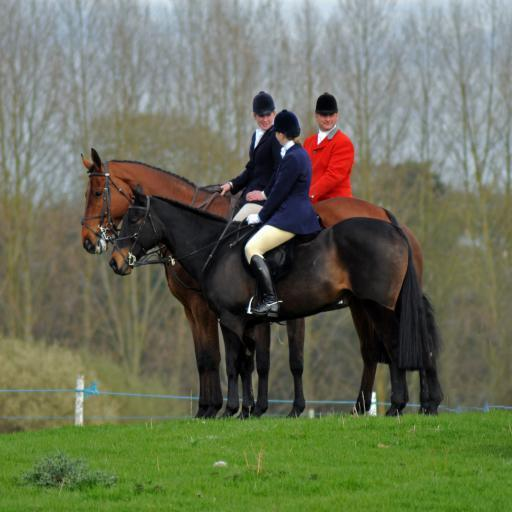horse: (81, 145, 443, 417)
